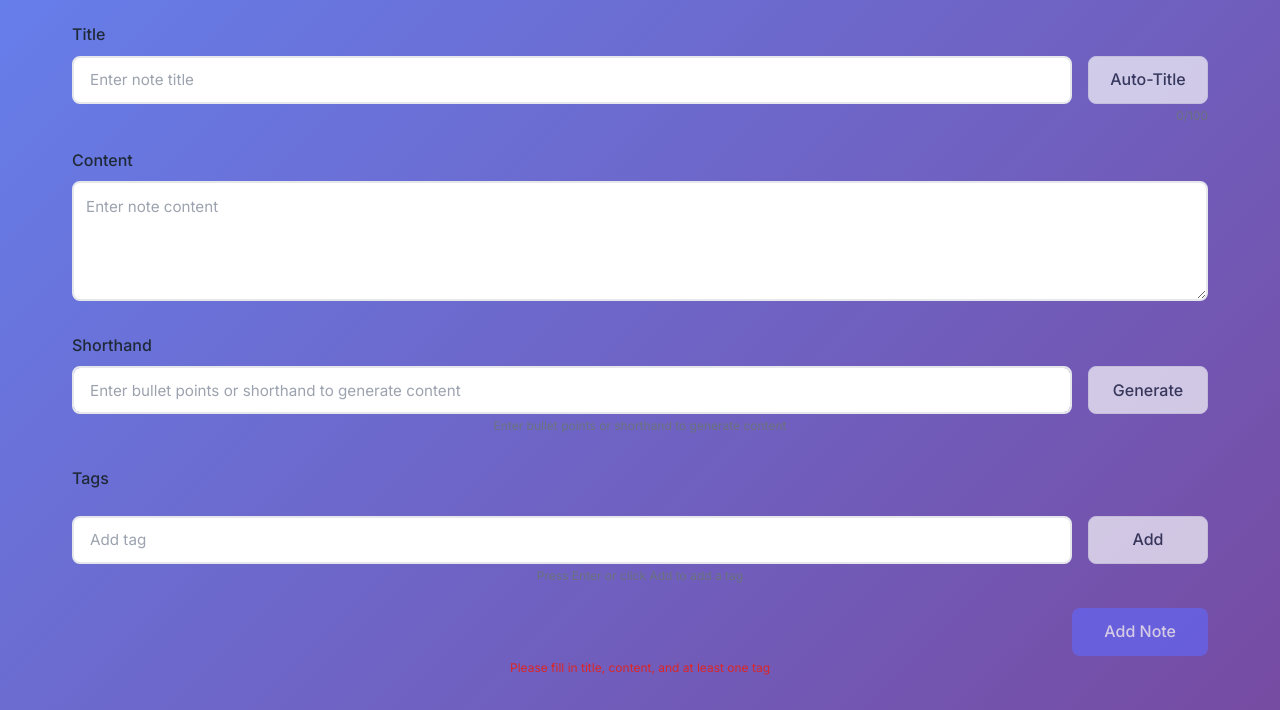
Test: AI Error Handling › handles network timeout errors gracefully
# Fill in content
Type "Test content" into the text box with placeholder "Enter note content" at (640, 241), box [72,181,1208,301]
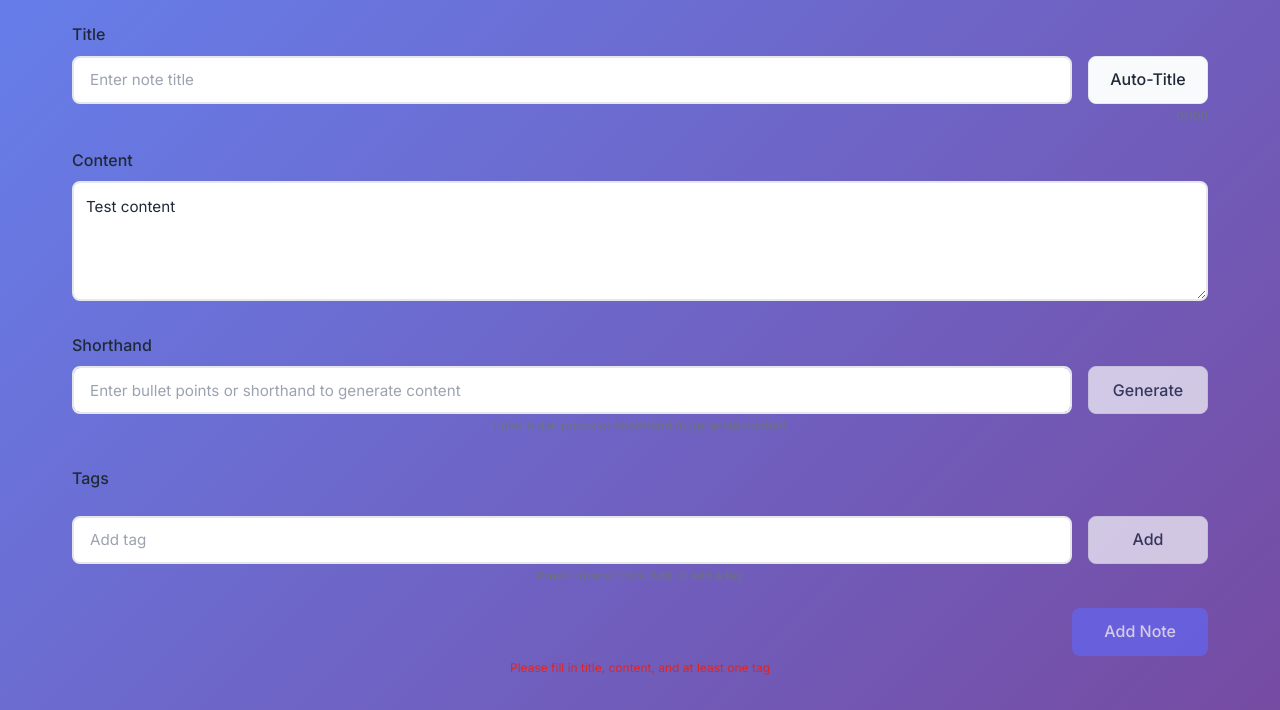
# Click auto-title button
Click the button "Auto-Title" at (1148, 80), box [1088,56,1208,104]
(page scrolled)
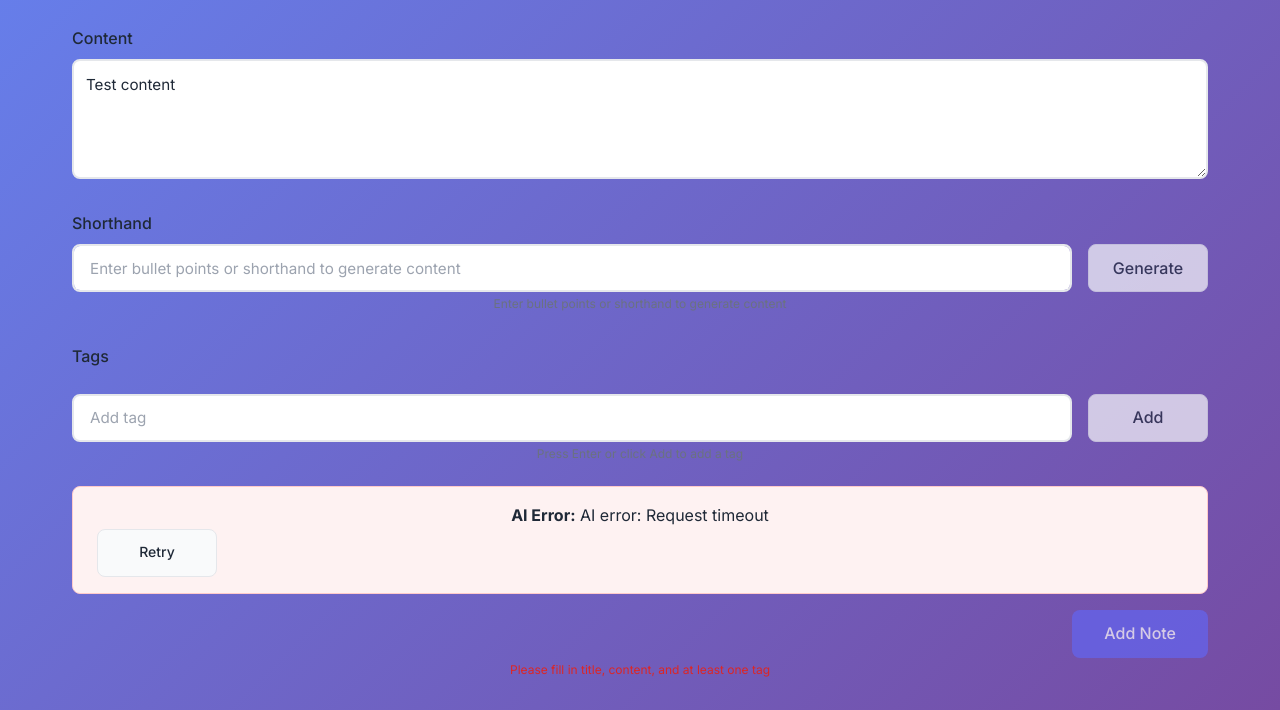
Result: the text "AI Error: AI error: Request timeout Retry" is shown at [72,486,1208,594]
